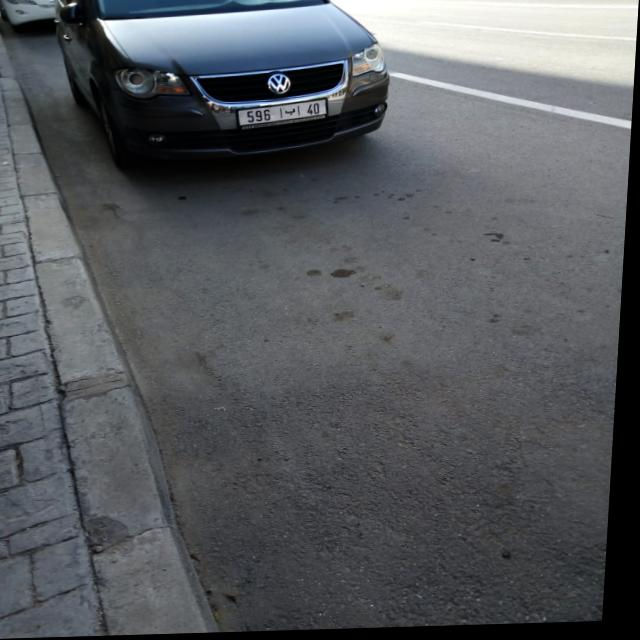License-Plate: (240, 101, 328, 127)
